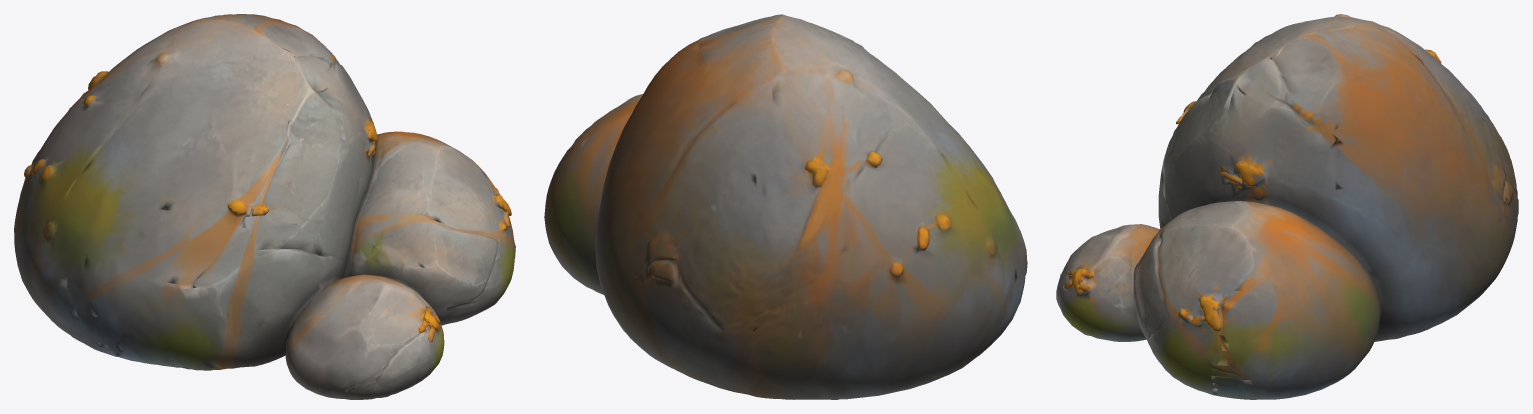
File: rock_cluster.glb
3 renders of one model, left to right at view 1: azimuth 30°, elevation 25°; view 2: azimuth 150°, elevation 25°; view 3: azimuth 270°, elevation 25°, orthographic. The views are drawn at different scales.
Visible parts, largest first — view 1: tripo_node_a7f2624c-814b-4b3a-831d-1ec9dd120d09; view 2: tripo_node_a7f2624c-814b-4b3a-831d-1ec9dd120d09; view 3: tripo_node_a7f2624c-814b-4b3a-831d-1ec9dd120d09.
Boxes of the visible parts, left/top/right/bottom form: tripo_node_a7f2624c-814b-4b3a-831d-1ec9dd120d09: left=14, top=14, right=515, bottom=399; tripo_node_a7f2624c-814b-4b3a-831d-1ec9dd120d09: left=544, top=14, right=1027, bottom=399; tripo_node_a7f2624c-814b-4b3a-831d-1ec9dd120d09: left=1056, top=14, right=1518, bottom=399.
Bounding box in the file's own units: 0.9789 × 0.6341 × 0.9176.
Materials: 1 (1 with a texture image).
